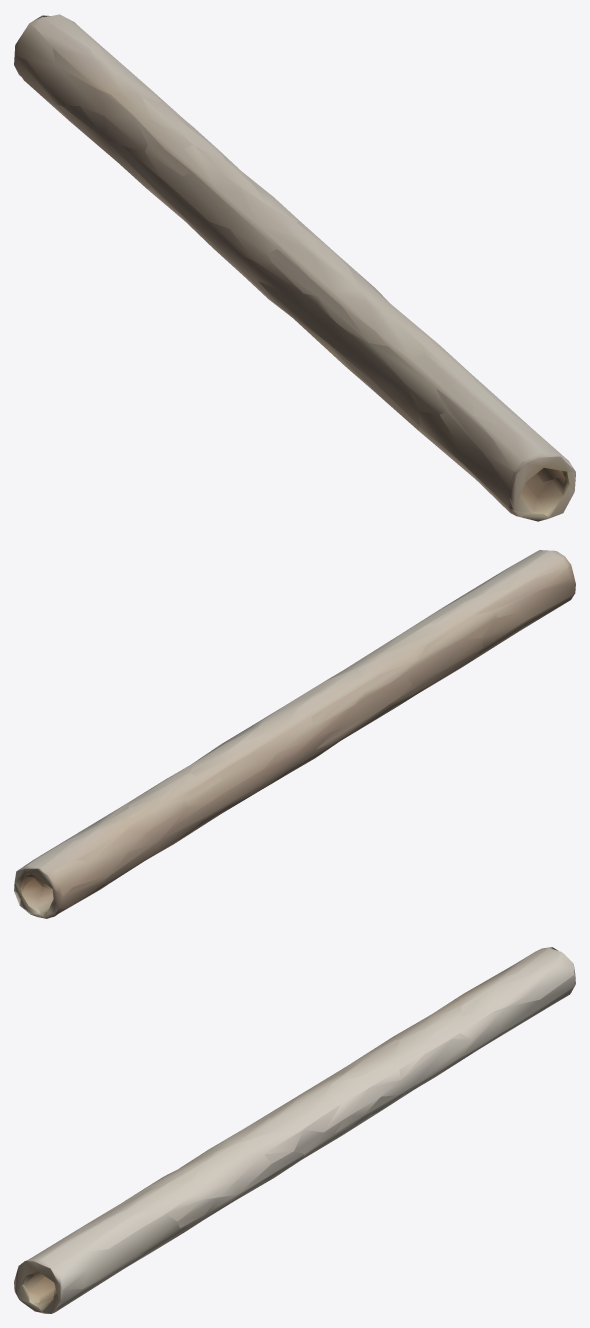
Rendered from 0014_mask_015_chopsticks.glb.
3 renders of one model, top to bottom at view 1: azimuth 30°, elevation 25°; view 2: azimuth 150°, elevation 25°; view 3: azimuth 330°, elevation 25°, orthographic. The views are drawn at different scales.
Parts seen in each view (by area): view 1: mask_015_object; view 2: mask_015_object; view 3: mask_015_object.
Part boxes in pixels (x1=…): mask_015_object: x1=14, y1=14, x2=575, y2=521; mask_015_object: x1=14, y1=550, x2=575, y2=918; mask_015_object: x1=14, y1=947, x2=575, y2=1313.
Size of the model in its own units: 0.073 by 0.0334 by 0.5095.
